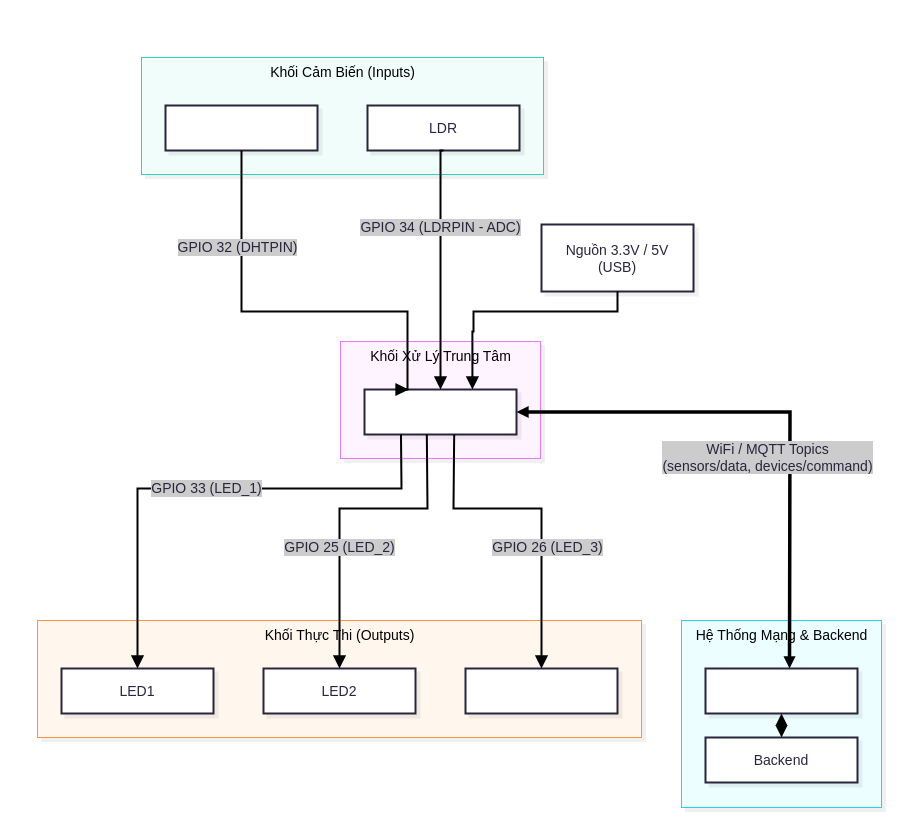
This 903x829 diagram has some shape labels left out. Each missing label, with the centre of its shape:
DHT: [243,129]
ESP: [442,413]
LED3: [543,692]
MQTT: [783,692]
